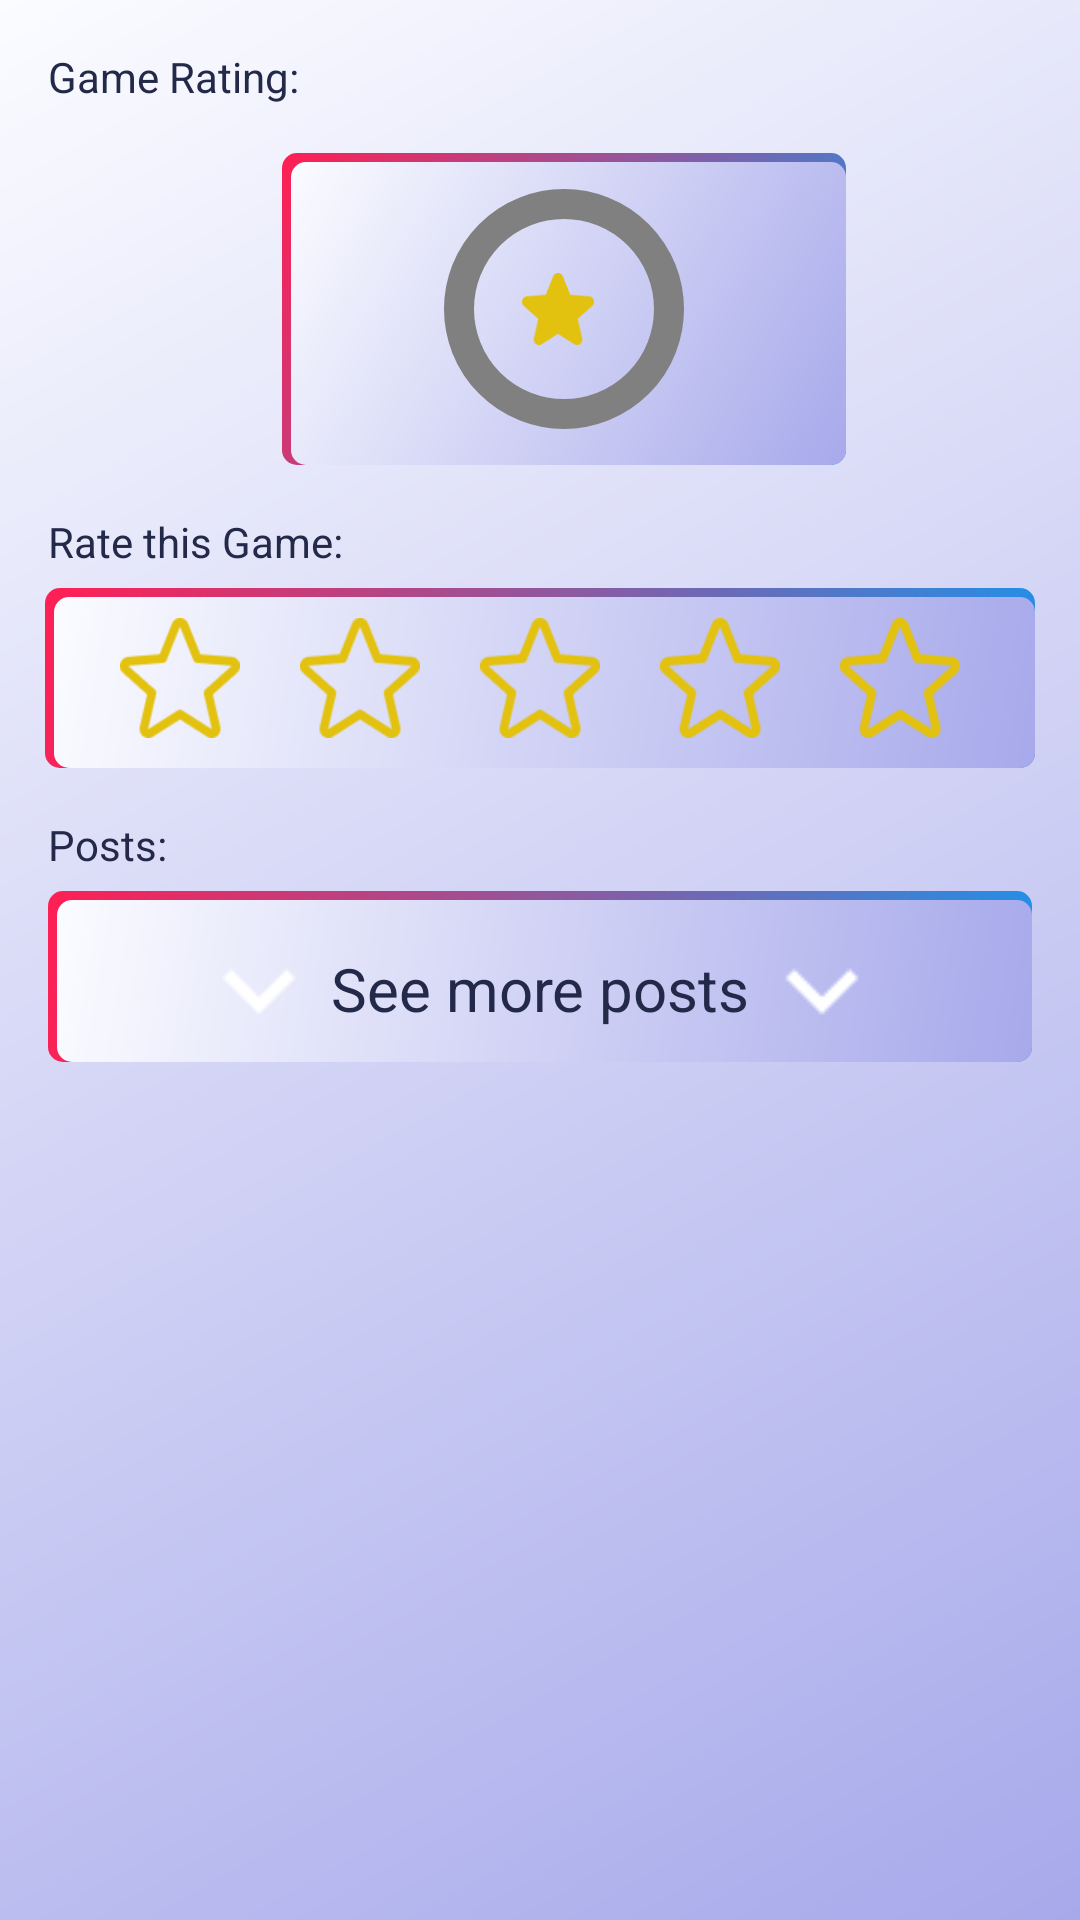

Icons on this 1080px×1920px Android screen, each with the point to tap as point (x, y):
spinner down: point (822, 991), point (258, 991)
star: point (180, 678), point (360, 678), point (540, 678), point (720, 678), point (900, 678)
star full: point (558, 309)
